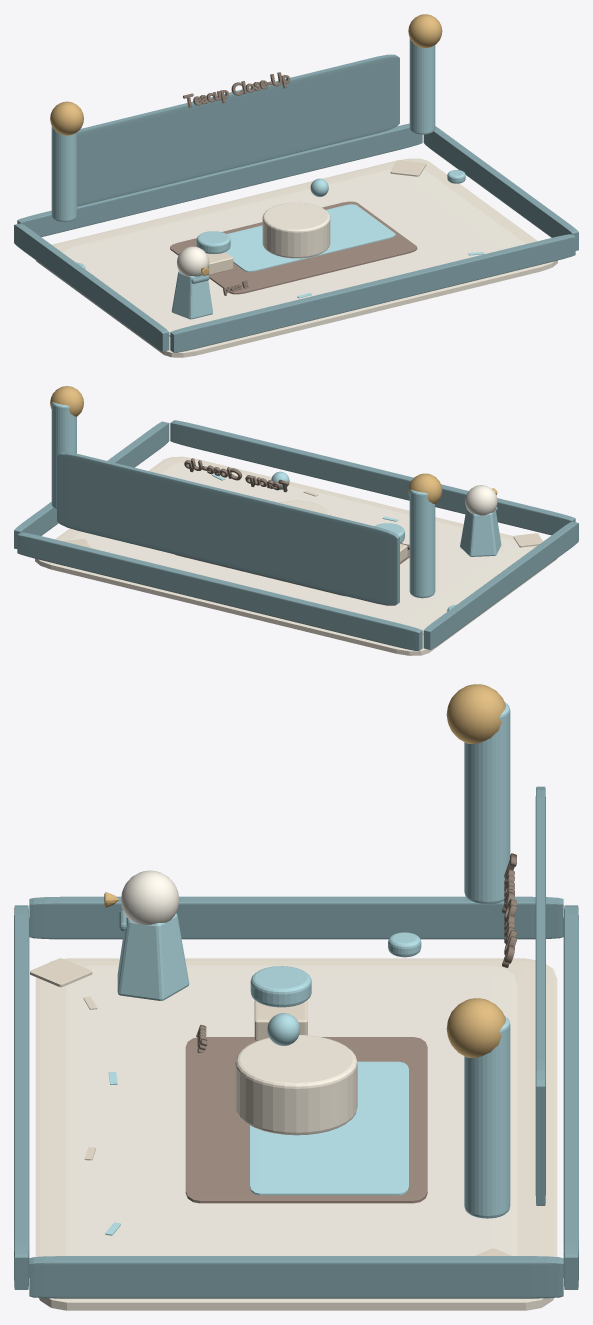
File: 06_cameras.glb
The picture shows the model from 3 angles, top to bottom: view 1: azimuth 30°, elevation 25°; view 2: azimuth 150°, elevation 25°; view 3: azimuth 270°, elevation 25°; orthographic projection. The views are drawn at different scales.
Parts seen in each view (by area): view 1: BackCard, FloorLayerInset, SouthRail-col, NorthRail-col, PaperFloor-col, StageMat, WestRail-col, StageMatHighlight, EastRail-col, Teacup, PaperLantern.001, FpeRushPlayer (+7 smaller); view 2: BackCard, FloorLayerInset, NorthRail-col, SouthRail-col, PaperFloor-col, WestRail-col, PaperLantern, FpeRushPlayer, EastRail-col, PaperLantern.001, TitleLabel, LanternGlow.001 (+1 smaller); view 3: FloorLayerInset, PaperFloor-col, EastRail-col, WestRail-col, StageMat, StageMatHighlight, Teacup, PaperLantern.001, PaperLantern, FpeRushPlayer, NorthRail-col, SouthRail-col (+8 smaller).
Boxes of the visible parts, x1,y1,x2,y2 form: BackCard: (77,54,399,206); FloorLayerInset: (62,168,525,336); SouthRail-col: (170,234,575,352); NorthRail-col: (17,123,422,236); PaperFloor-col: (36,158,557,357); StageMat: (170,201,417,294); WestRail-col: (14,223,169,351); StageMatHighlight: (225,204,395,271); EastRail-col: (423,126,578,250); Teacup: (262,202,330,258); PaperLantern.001: (409,38,435,134); FpeRushPlayer: (171,246,212,319); BackCard: (57,452,399,605); FloorLayerInset: (70,462,533,634); NorthRail-col: (17,532,422,650); SouthRail-col: (170,420,575,535); PaperFloor-col: (35,456,556,655); WestRail-col: (423,521,578,649); PaperLantern: (409,489,435,598); FpeRushPlayer: (460,485,501,556); EastRail-col: (14,421,169,548); PaperLantern.001: (51,402,76,509); TitleLabel: (184,458,289,492); LanternGlow.001: (50,386,83,416); FloorLayerInset: (65,965,517,1255); PaperFloor-col: (35,958,557,1310); EastRail-col: (29,1256,563,1298); WestRail-col: (29,896,563,939); StageMat: (185,1037,427,1203); StageMatHighlight: (250,1061,408,1195); Teacup: (235,1035,357,1135); PaperLantern.001: (464,1016,510,1218); PaperLantern: (464,702,510,904); FpeRushPlayer: (104,870,189,1000); NorthRail-col: (563,905,578,1289); SouthRail-col: (14,905,29,1289).
Size of the model in its own units: 6.8 by 2.56 by 4.44.
